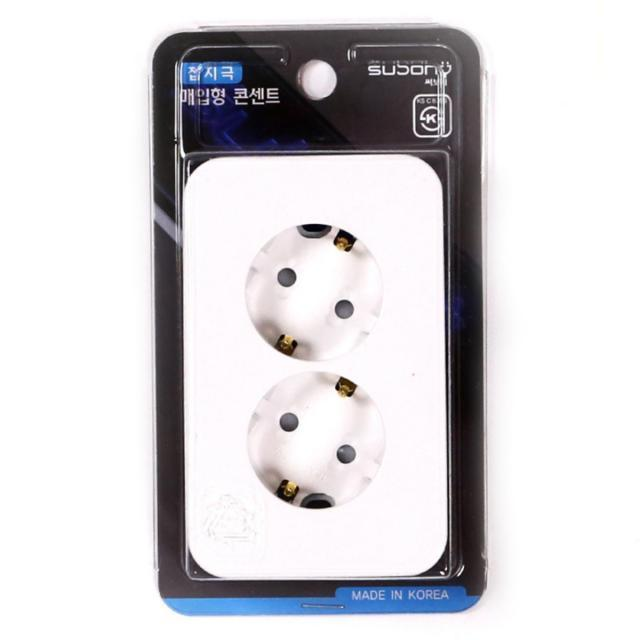typeb: (165, 144, 474, 618)
